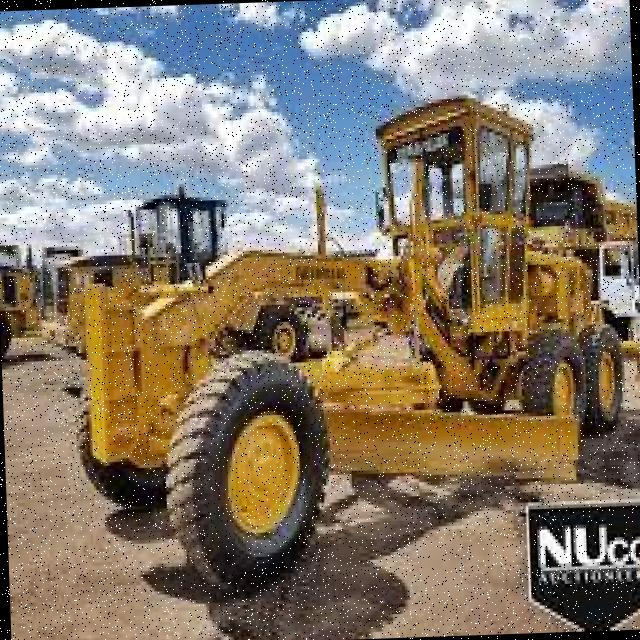Grader: (51, 72, 640, 587)
